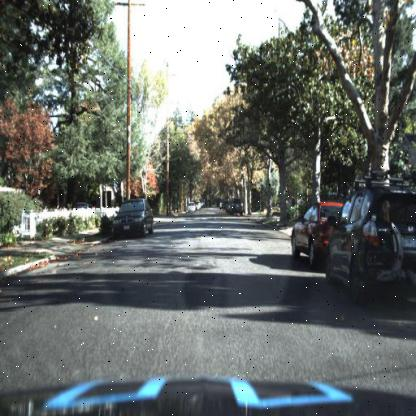car: (324, 170, 415, 310), (286, 200, 350, 256), (110, 195, 152, 237)
